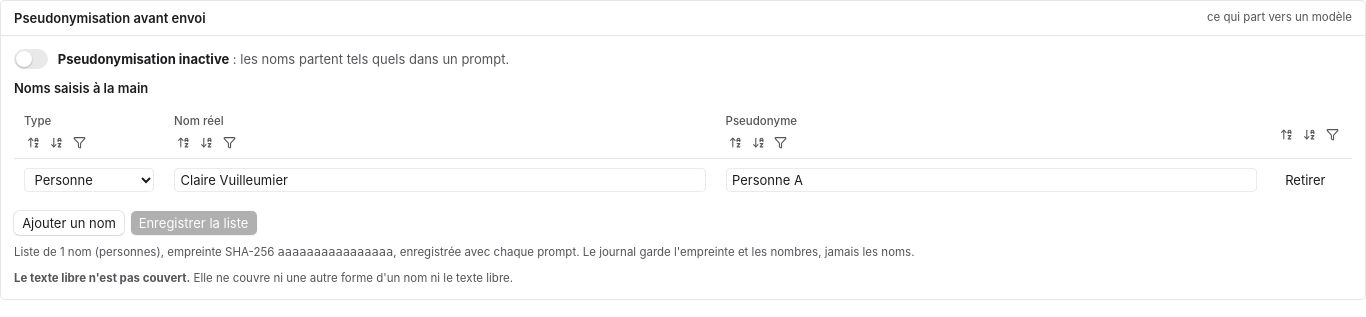
Test case: Pseudonymisation section › switches it on without touching the list
This screenshot has width=1366, height=317.
Click the switch named "Remplacer les noms" at point(31, 59), box left=14, top=49, right=48, bottom=69
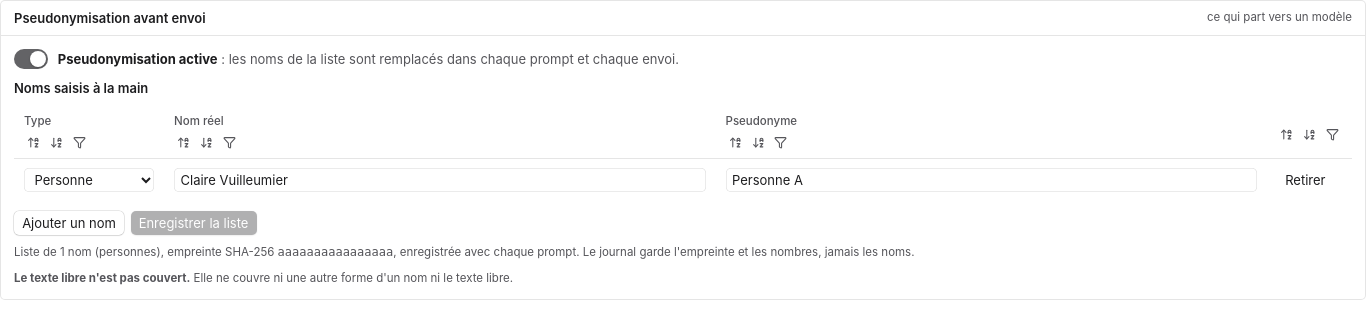
Check: the text "Pseudonymisation active" is shown, box left=58, top=51, right=218, bottom=67
